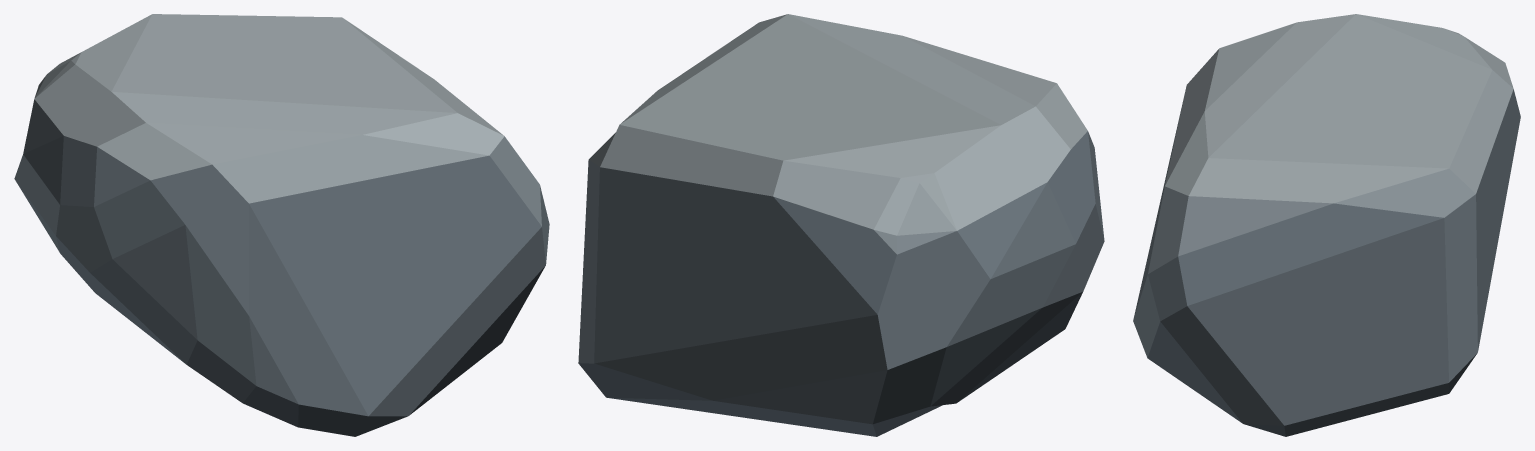
Rendered from boulder-small.glb.
3 renders of one model, left to right at view 1: azimuth 30°, elevation 25°; view 2: azimuth 150°, elevation 25°; view 3: azimuth 270°, elevation 25°, orthographic. The views are drawn at different scales.
Parts seen in each view (by area): view 1: boulder-small; view 2: boulder-small; view 3: boulder-small.
Boxes of the visible parts, <box> form: boulder-small: <box>14,14,549,436</box>; boulder-small: <box>578,14,1104,436</box>; boulder-small: <box>1133,14,1520,436</box>.
Size of the model in its own units: 0.5512 by 0.3947 by 0.4993.
